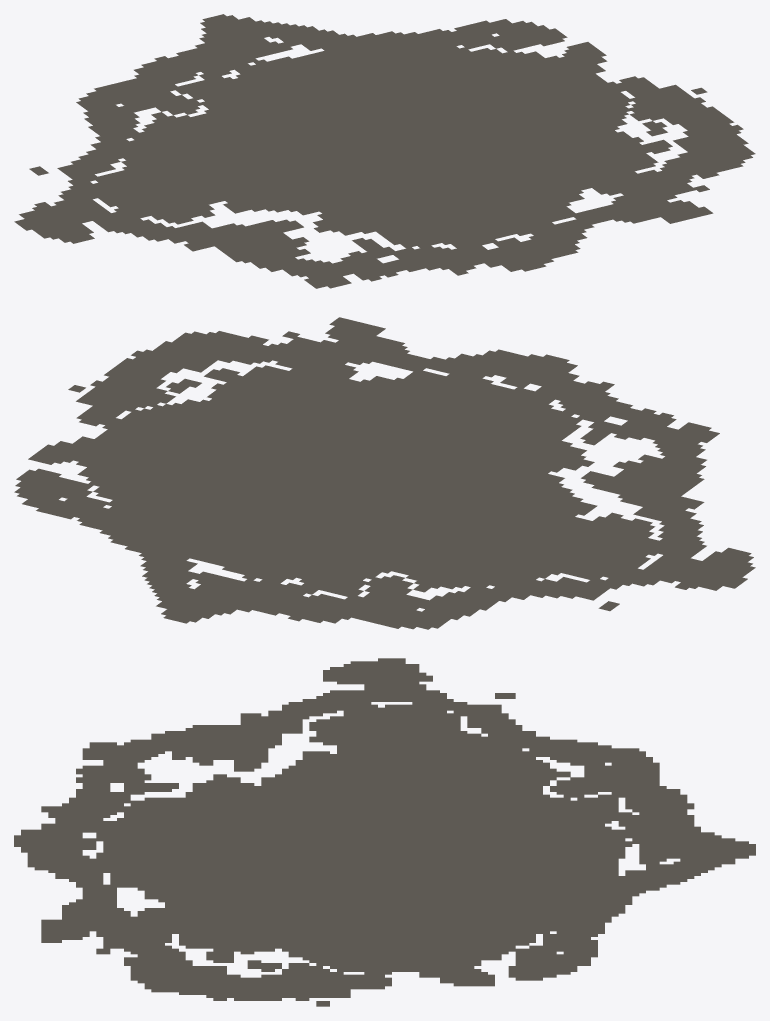
The model's file is Isl-rocky3-NoBuildArea.fbx.
3 views of the same model, one above another, from view 1: azimuth 30°, elevation 25°; view 2: azimuth 150°, elevation 25°; view 3: azimuth 270°, elevation 25° (orthographic). The views are drawn at different scales.
Visible parts, largest first — view 1: Isl-rocky3-NoBuildArea; view 2: Isl-rocky3-NoBuildArea; view 3: Isl-rocky3-NoBuildArea.
Part boxes in pixels (x1=…): Isl-rocky3-NoBuildArea: x1=14, y1=14, x2=755, y2=288; Isl-rocky3-NoBuildArea: x1=14, y1=317, x2=755, y2=629; Isl-rocky3-NoBuildArea: x1=14, y1=658, x2=755, y2=1006.
Bounding box in the file's own units: 120 × 0 × 108.
